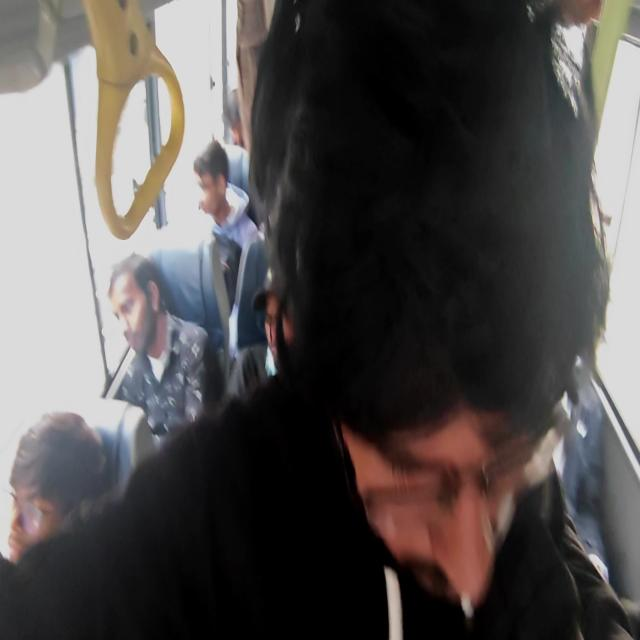person: (1, 1, 626, 637), (148, 137, 269, 397), (107, 252, 225, 449), (6, 410, 108, 566)
